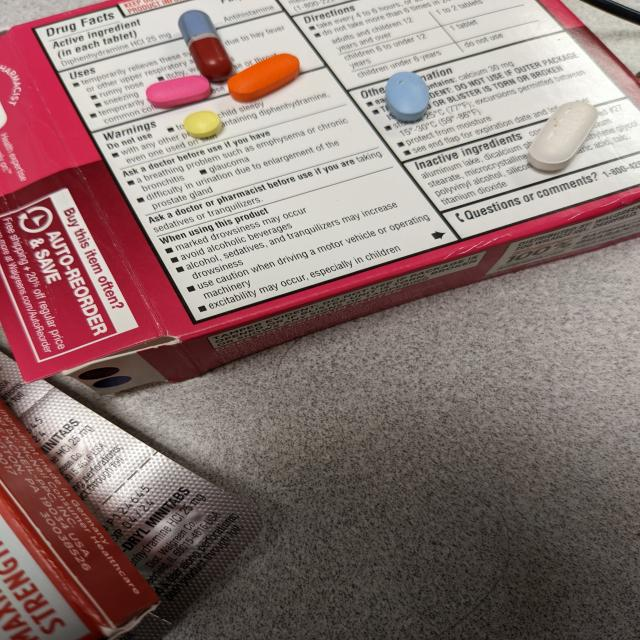non-organic waste: (526, 100, 600, 172), (176, 9, 234, 83), (226, 52, 302, 104), (383, 71, 430, 123), (145, 75, 212, 109), (183, 110, 224, 139)
